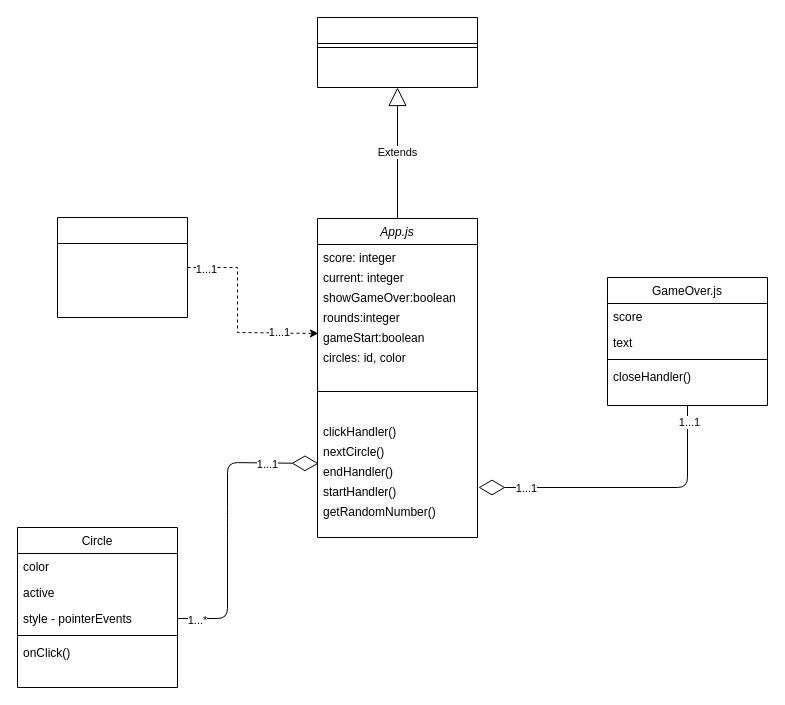
The diagram is 785 pixels wide and 705 high, and some of its shapes have lost their labels. Here are the shapes that lost their labels. From the top down, the centre of each, then its label:
At [397,52]: "Component".
At [122,267]: "index.js".
